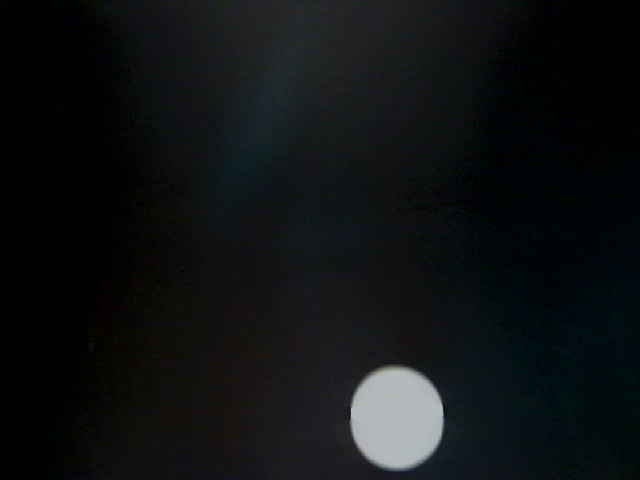CYLJ: (1, 177, 226, 480)
